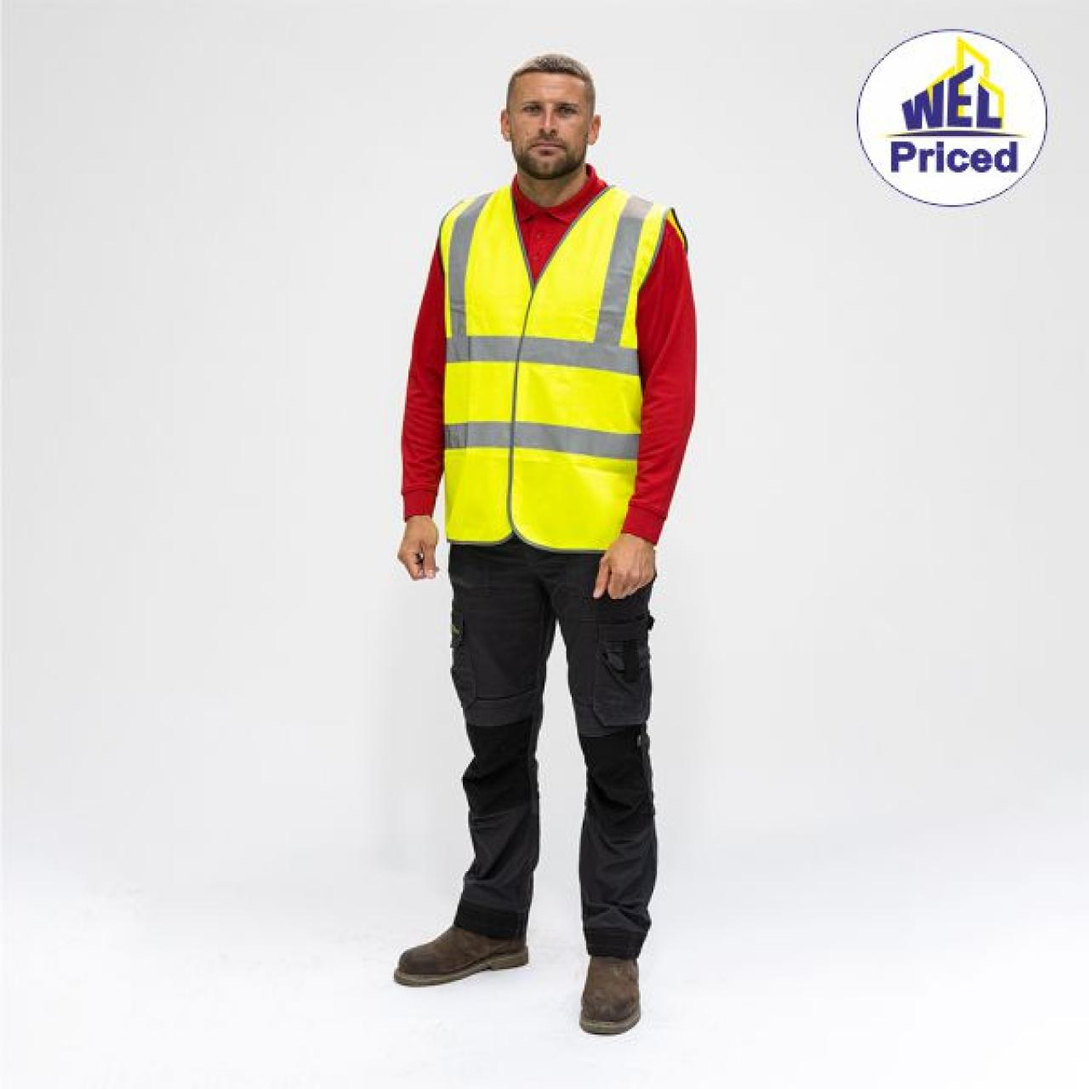Person: (371, 26, 714, 1035)
Safety_Vest: (438, 185, 691, 548)
